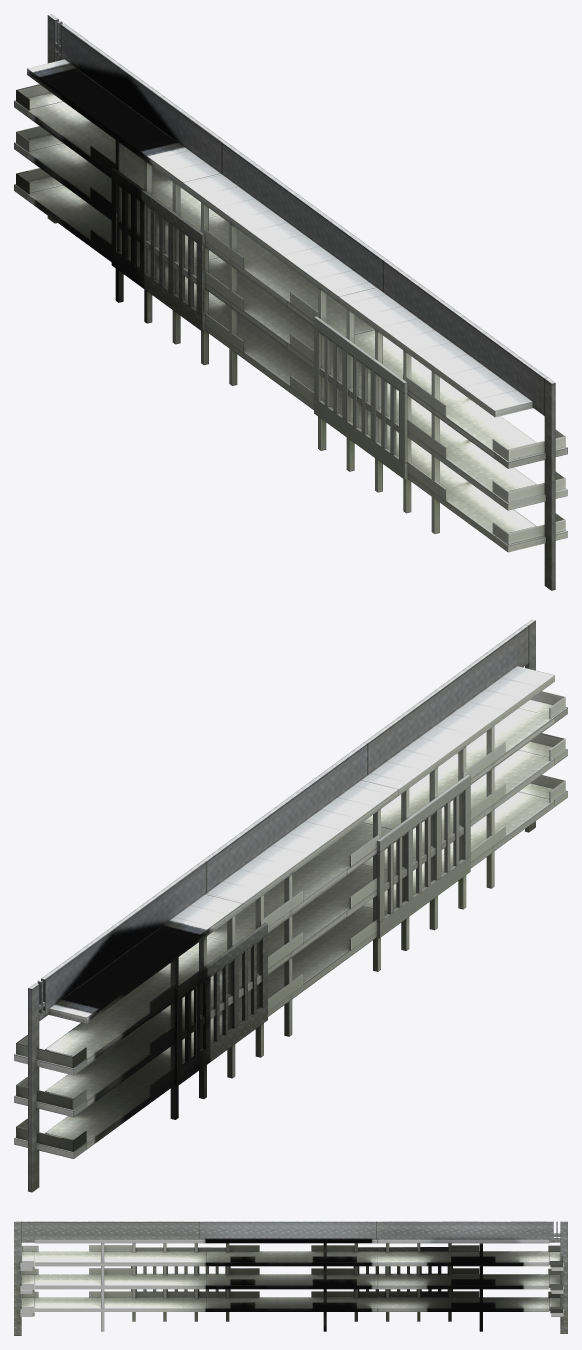
The model's file is teaching_B2T.glb.
3 renders of one model, top to bottom at view 1: azimuth 30°, elevation 25°; view 2: azimuth 150°, elevation 25°; view 3: azimuth 270°, elevation 25°, orthographic. The views are drawn at different scales.
Parts seen in each view (by area): view 1: 教学楼B_2; view 2: 教学楼B_2; view 3: 教学楼B_2.
Boxes of the visible parts, x1,y1,x2,y2 form: 教学楼B_2: (14,14,567,590); 教学楼B_2: (14,619,567,1192); 教学楼B_2: (14,1221,567,1335).
Bounding box in the file's own units: 6.15 × 19.3 × 85.15.
1 material, 1 textured.
